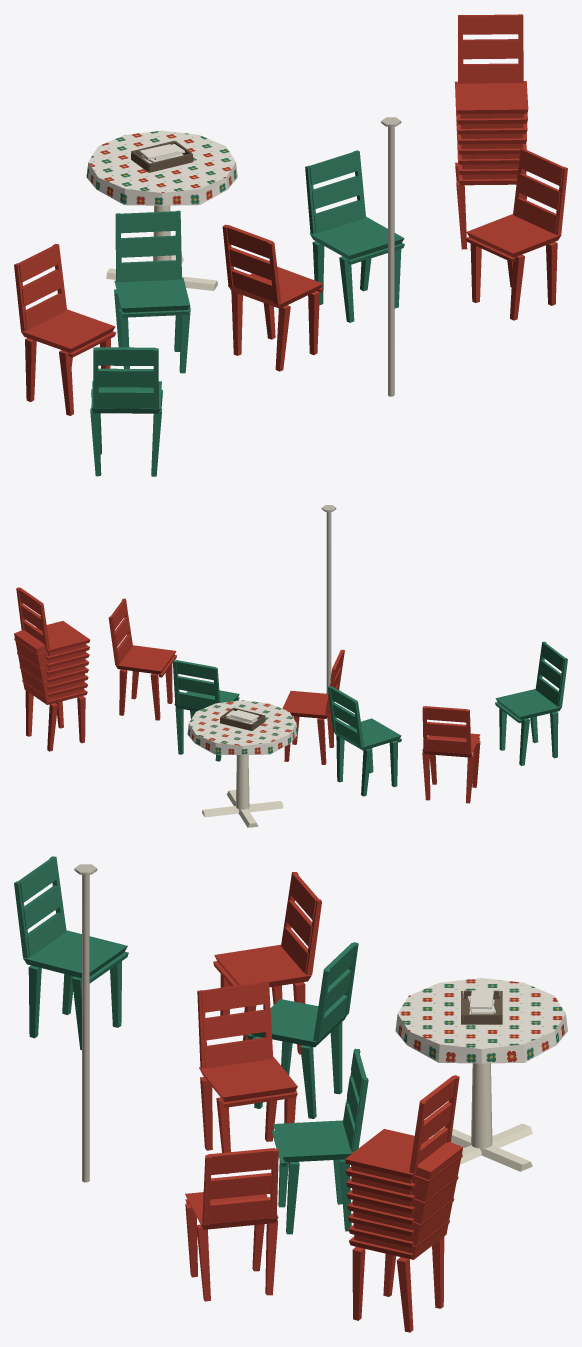
File: BoTri_Dem2.glb
3 views of the same model, one above another, from view 1: azimuth 30°, elevation 25°; view 2: azimuth 150°, elevation 25°; view 3: azimuth 270°, elevation 25° (orthographic). The views are drawn at different scales.
Visible parts, largest first — view 1: backrest (×6), seat (×6), cover, top_backrest, leg_3 (×4), stack_body, seat_edge_8, pole, leg_1 (×2), leg_2 (×2), leg_4; view 2: backrest (×5), seat (×5), cover, nested_backs, pole, stack_body, seat_edge_8, top_backrest, column; view 3: backrest (×6), seat (×6), cover, leg_1 (×5), nested_backs, leg_4 (×4), pole, leg_2 (×3), stack_body, seat_edge_8, top_backrest, column (+1 smaller).
Part boxes in pixels (<box>): backrest (×6): <box>16,149,564,408</box>; seat (×6): <box>21,214,561,413</box>; cover: <box>86,130,237,205</box>; top_backrest: <box>460,14,520,83</box>; leg_3 (×4): <box>59,244,481,415</box>; stack_body: <box>460,113,523,185</box>; seat_edge_8: <box>454,81,528,114</box>; pole: <box>388,126,394,396</box>; leg_1 (×2): <box>25,305,290,401</box>; leg_2 (×2): <box>231,242,557,355</box>; leg_4: <box>510,254,524,320</box>; backrest (×5): <box>110,599,565,753</box>; seat (×5): <box>115,645,561,757</box>; cover: <box>187,700,297,755</box>; nested_backs: <box>14,630,52,704</box>; pole: <box>326,512,331,693</box>; stack_body: <box>48,643,86,702</box>; seat_edge_8: <box>36,621,90,653</box>; top_backrest: <box>18,587,44,643</box>; column: <box>236,755,249,811</box>; backrest (×6): <box>18,857,366,1223</box>; seat (×6): <box>23,930,352,1229</box>; cover: <box>395,978,567,1063</box>; leg_1 (×5): <box>28,965,444,1308</box>; nested_backs: <box>405,1142,463,1259</box>; leg_4 (×4): <box>110,961,365,1320</box>; pole: <box>82,874,89,1182</box>; leg_2 (×3): <box>196,1045,413,1332</box>; stack_body: <box>351,1165,411,1258</box>; seat_edge_8: <box>344,1129,428,1178</box>; top_backrest: <box>418,1075,456,1163</box>; column: <box>471,1063,492,1151</box>.
Size of the model in its own units: 3.75 by 1.66 by 2.66.
Materials: 7 (1 with a texture image).
